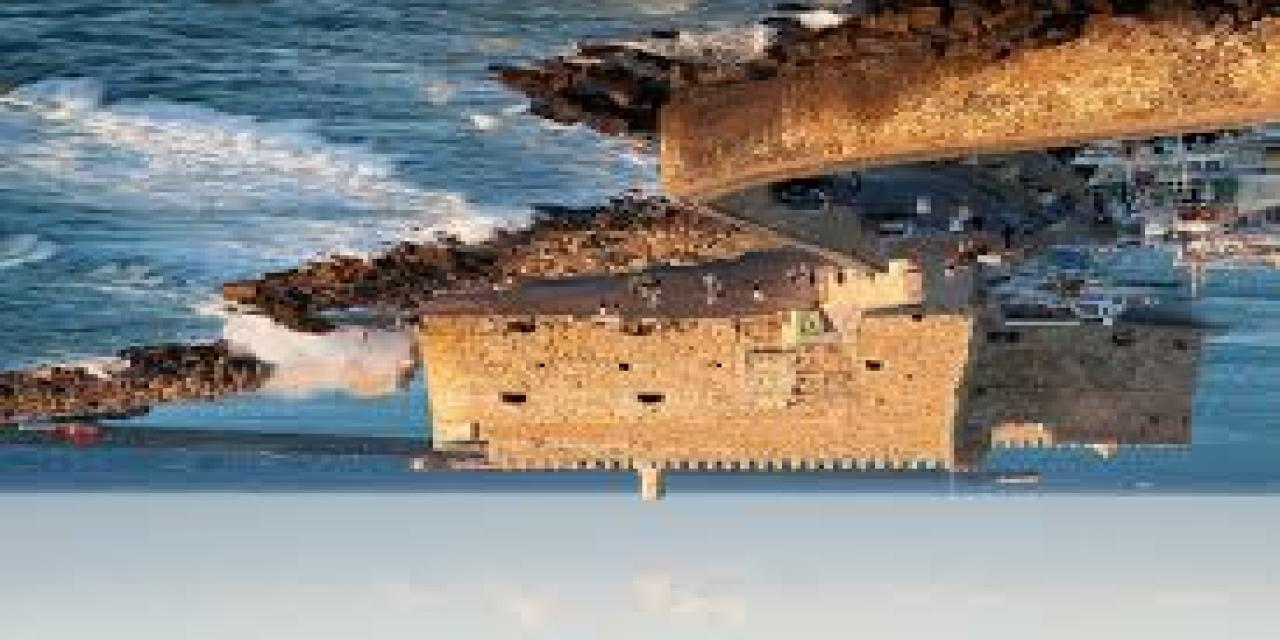Kules: (411, 254, 1228, 506)
